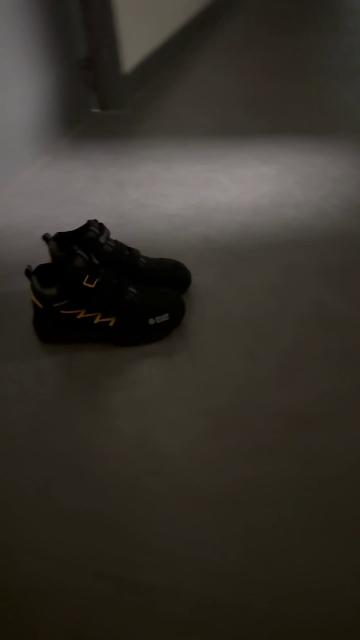shoe_worn: (24, 265, 186, 351), (41, 217, 195, 294)
